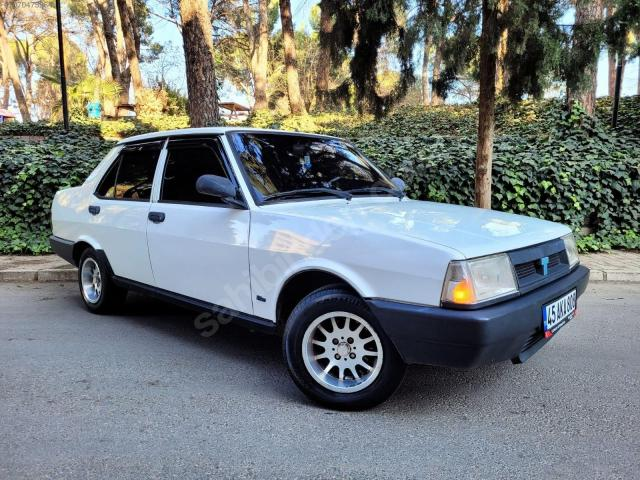plaka: (543, 289, 576, 332)
